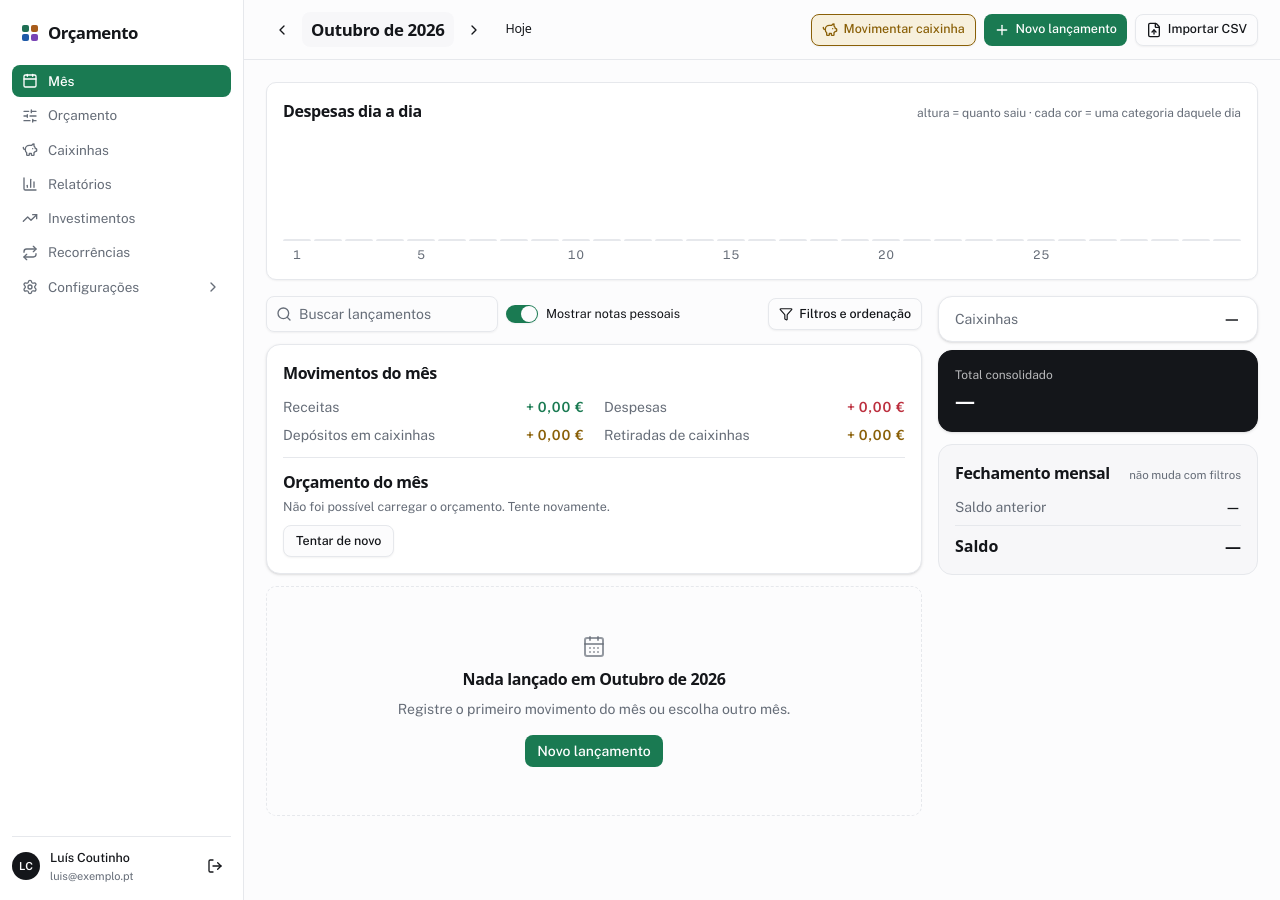
Test case: AppLayout › renders Investments as a primary area and the registries under Configurações
Expected: the link "Mês" is shown, [12,65,231,98]
Expected: the link "Caixinhas" is shown, [22,142,109,158]
Click the button "Configurações" at (122, 287), box [12,271,231,303]
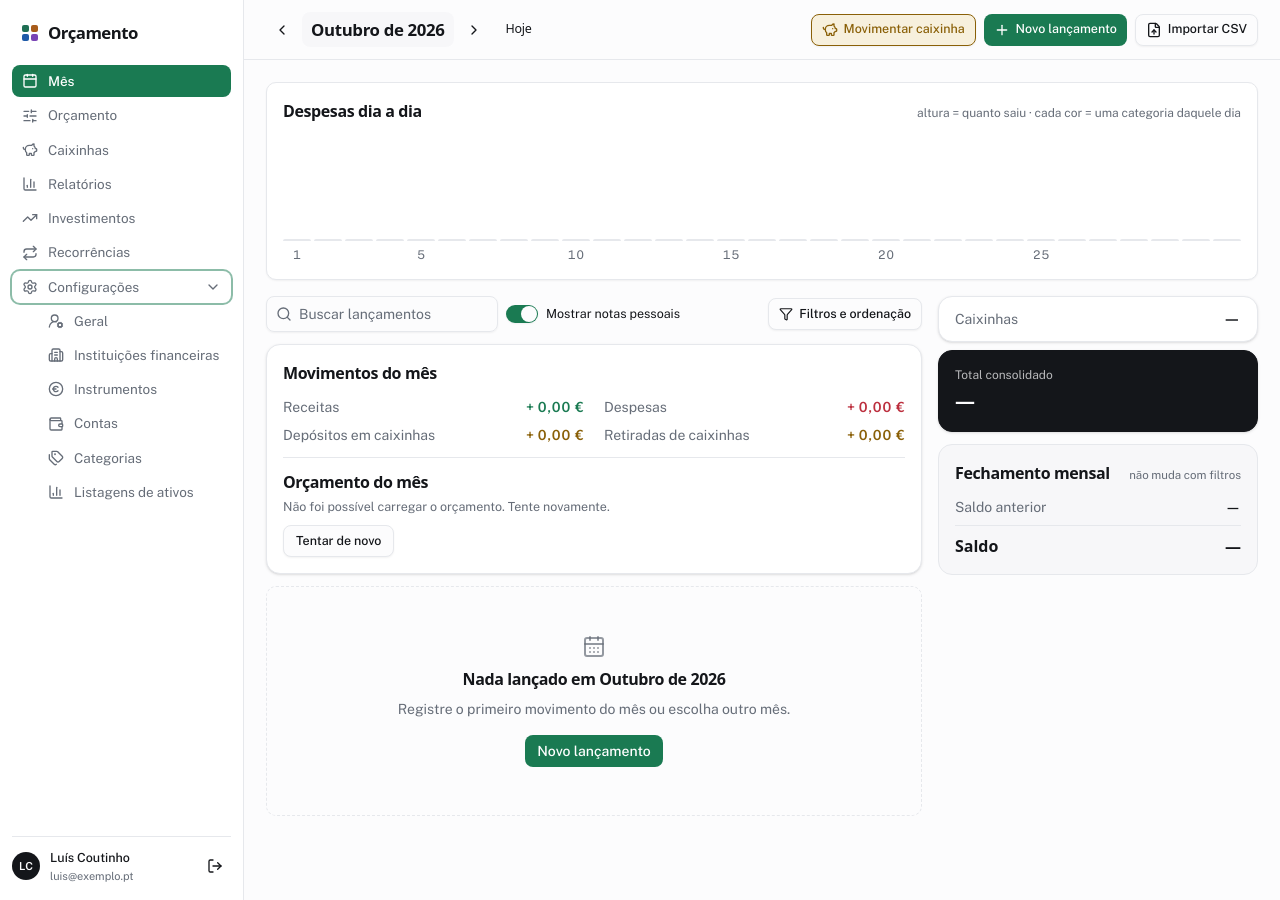
Result: the number of links "Investimentos" is 1
Click the link "Investimentos" at (79, 218), box [22,210,135,226]
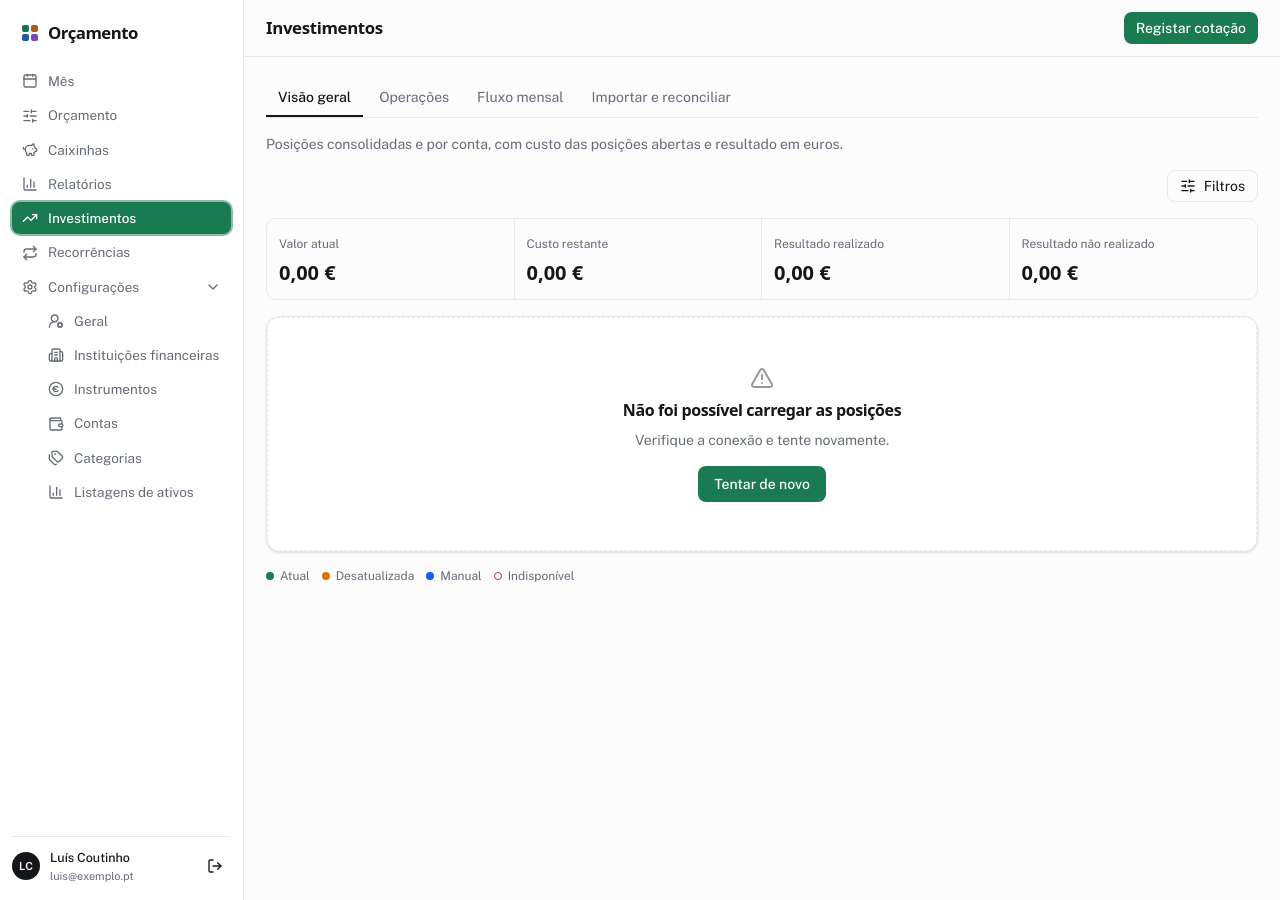
Result: the heading "Investimentos" is shown at [266,15,383,41]
